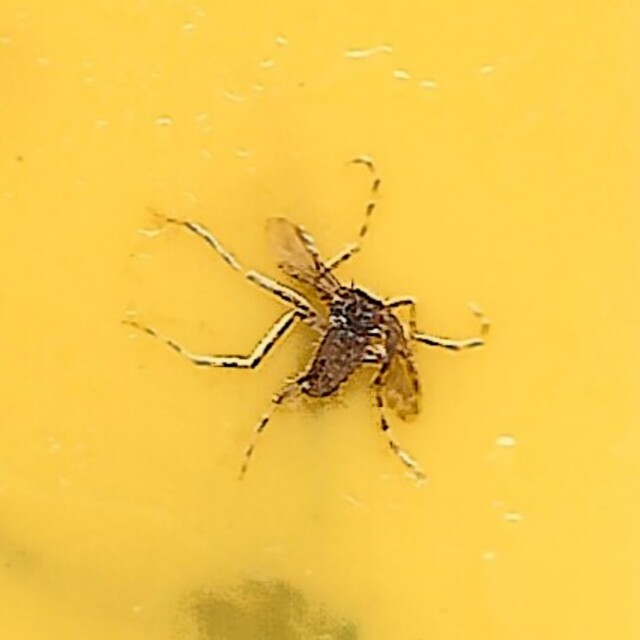Nematocera: (150, 154, 490, 486)
